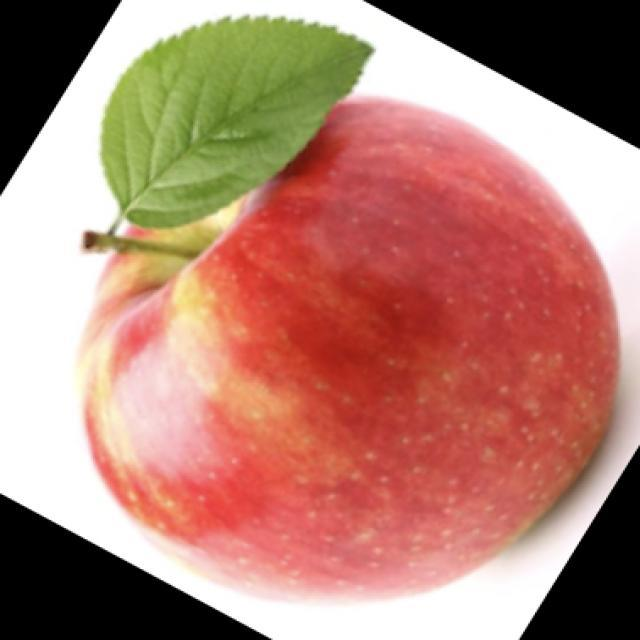Fresh Apple: (85, 98, 618, 602)
